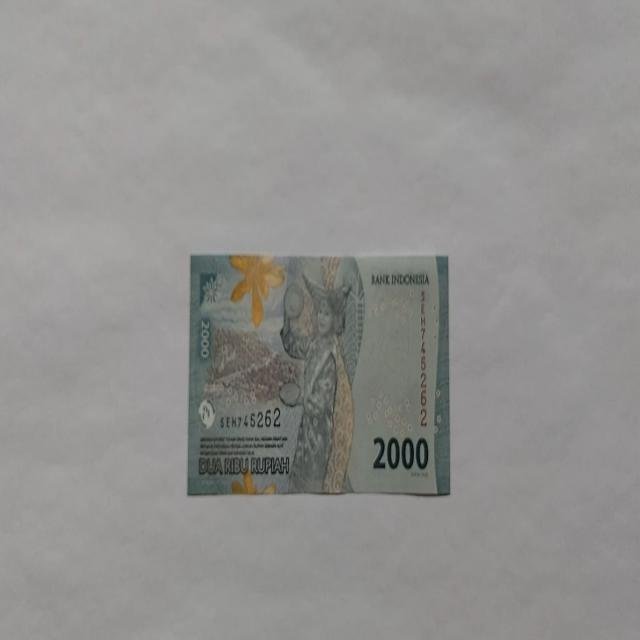dua ribu rupiah: (187, 251, 450, 497), (278, 271, 356, 494)
